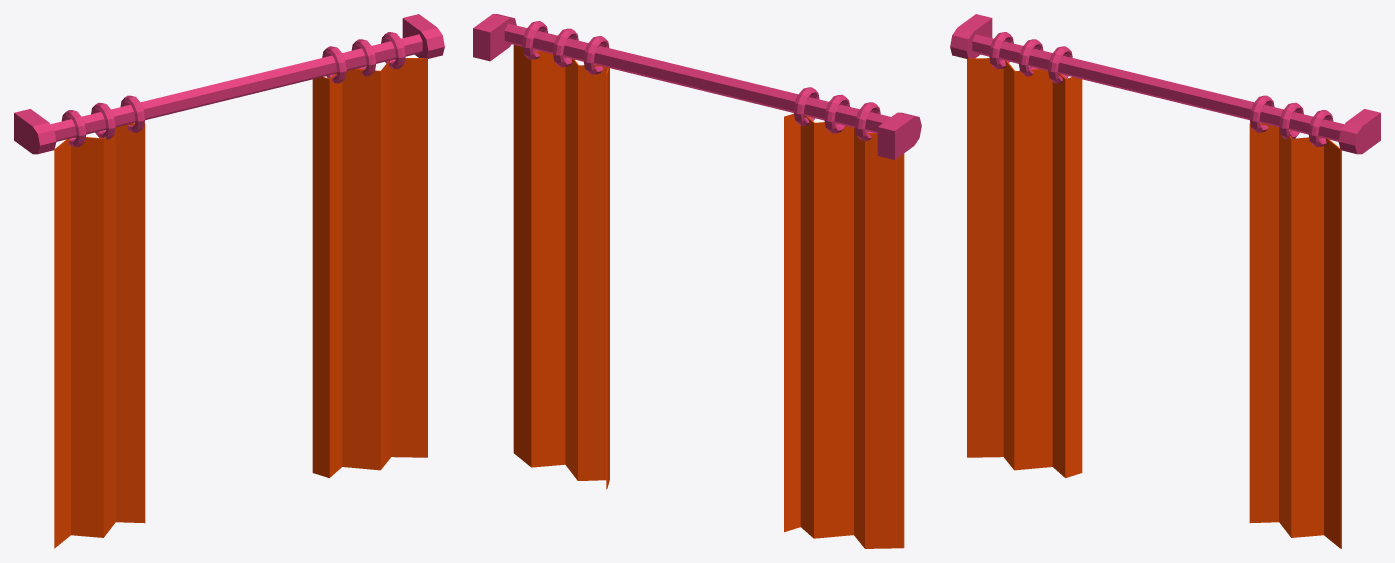
Rendered from Curtains_05.fbx.
3 views of the same model, side by side, from view 1: azimuth 30°, elevation 25°; view 2: azimuth 150°, elevation 25°; view 3: azimuth 330°, elevation 25° (orthographic). The views are drawn at different scales.
Parts seen in each view (by area): view 1: Curtains_05; view 2: Curtains_05; view 3: Curtains_05.
Part boxes in pixels (<box>): Curtains_05: <box>14,14,444,548</box>; Curtains_05: <box>473,14,921,548</box>; Curtains_05: <box>950,14,1380,548</box>.
Bounding box in the file's own units: 116 × 117 × 13.28.
